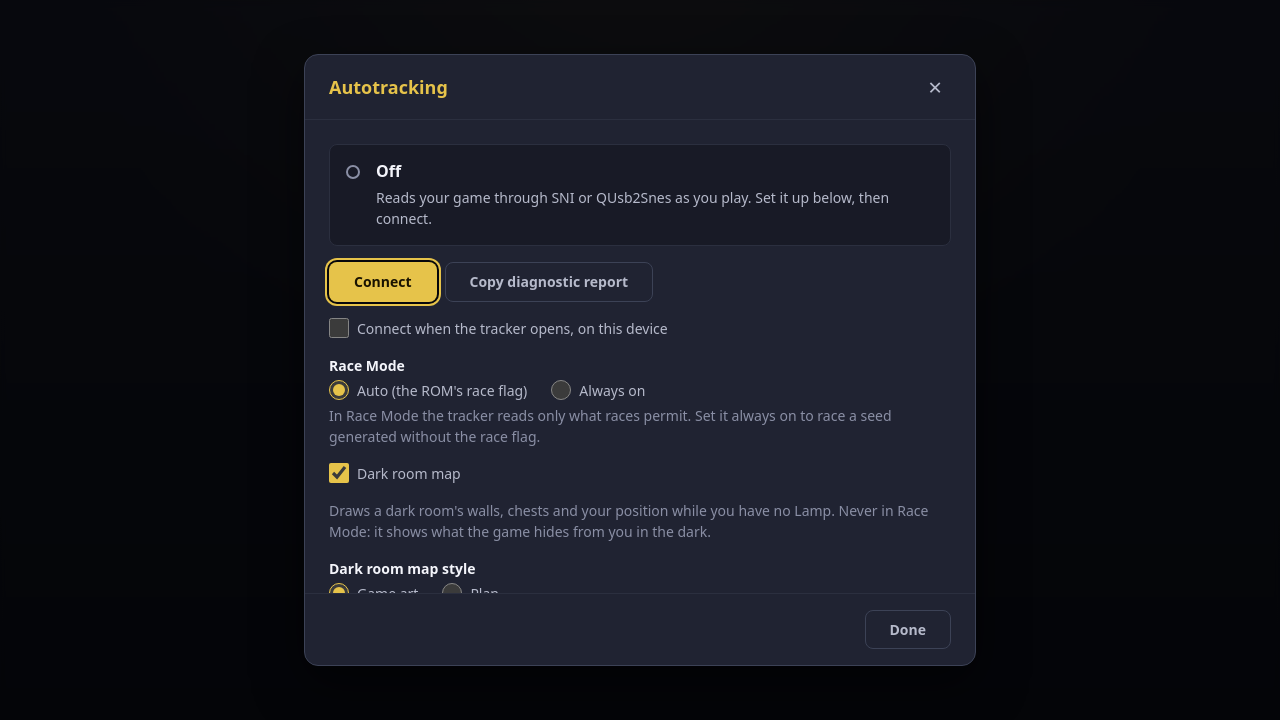
Test case: AutotrackDialog's actions › syncs the board to the game, and says what it changed
Click the button with test id "autotrack-connect": click(383, 282) [329,262,436,302]
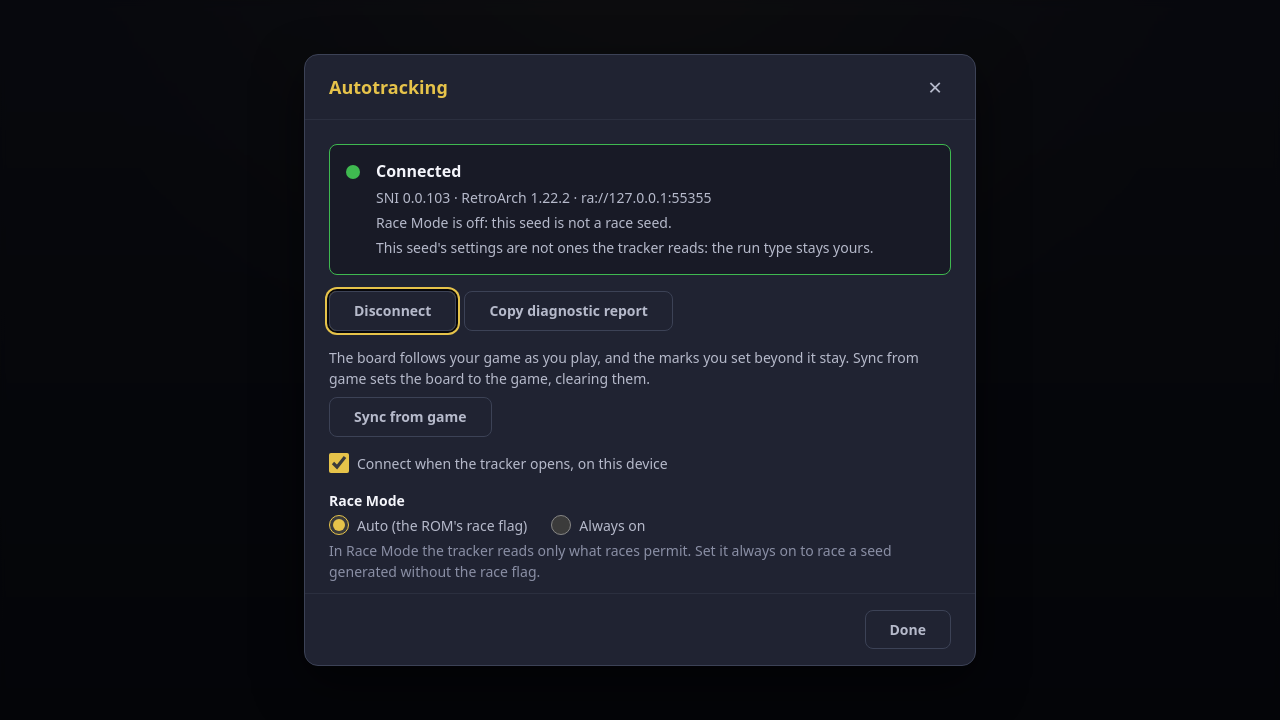
Click the button "Sync from game": click(410, 417) [329,397,492,437]
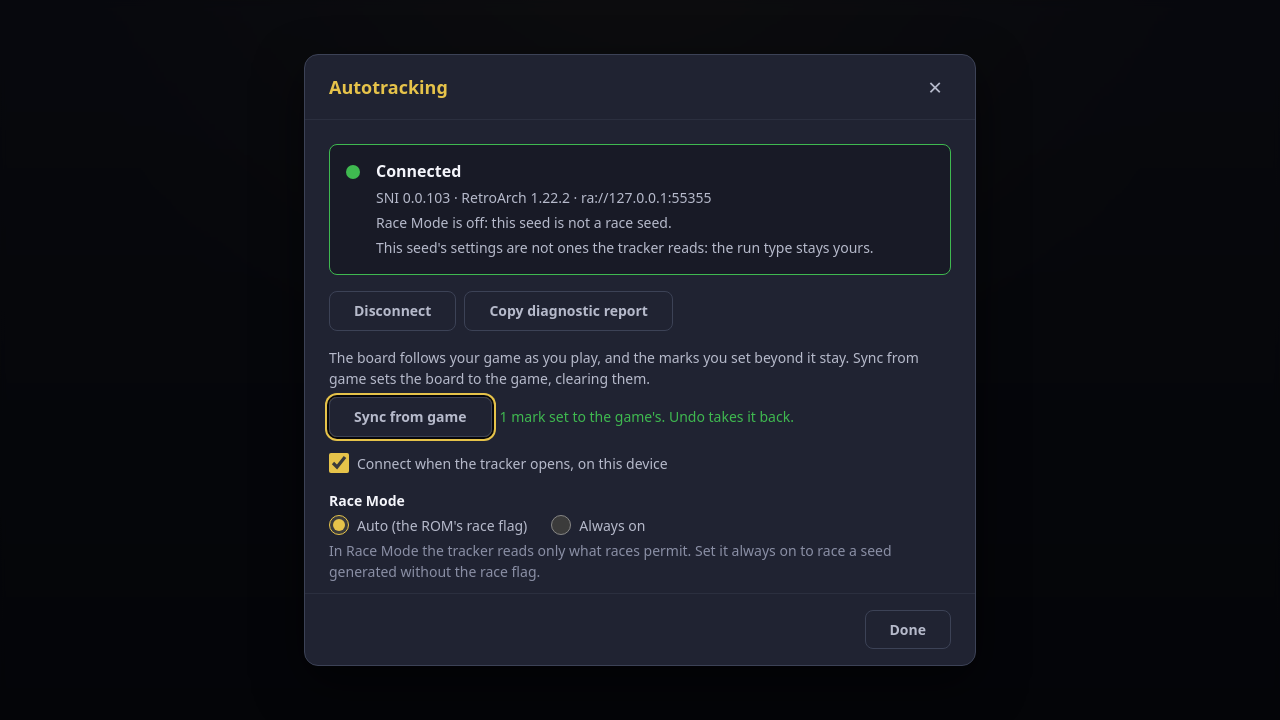
Expected: the text with test id "autotrack-sync-status" reads "1 mark set to the game's. Undo takes it back.", [500,407,794,426]
Click the button "Sync from game": click(410, 417) [329,397,492,437]
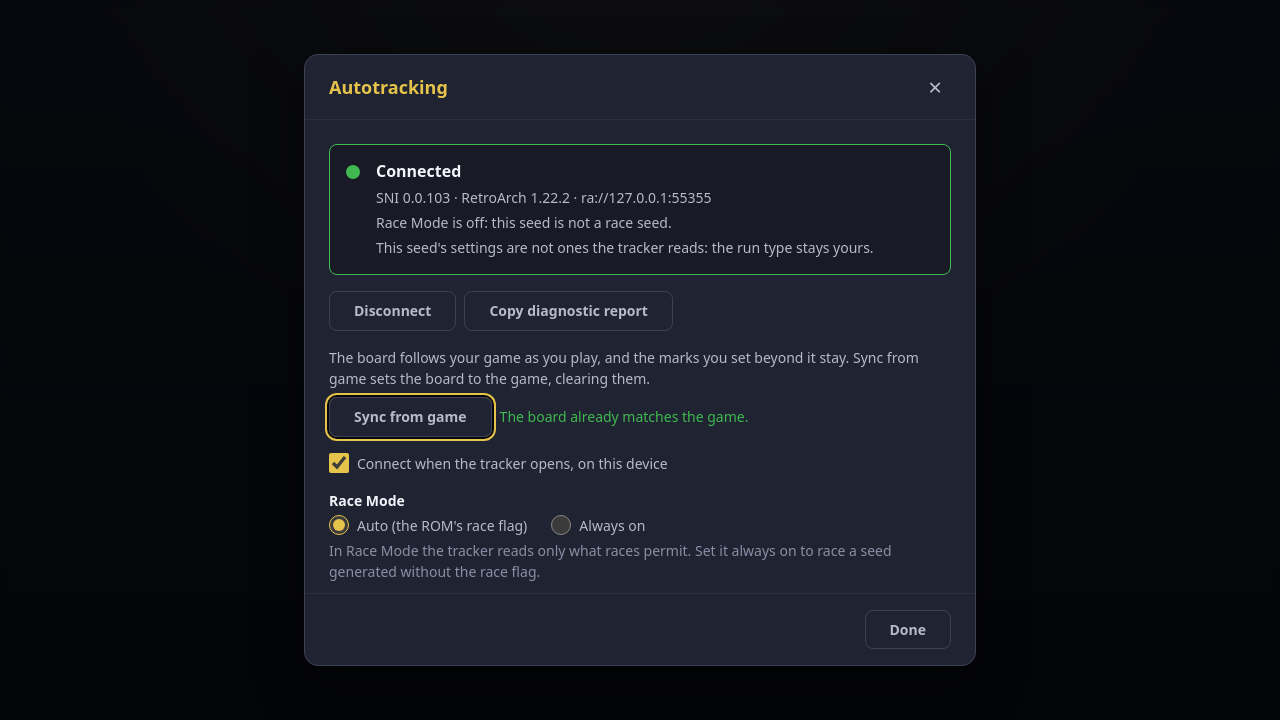
Expected: the text with test id "autotrack-sync-status" reads "The board already matches the game.", [500,407,748,426]
Click the button "Sync from game": click(410, 417) [329,397,492,437]
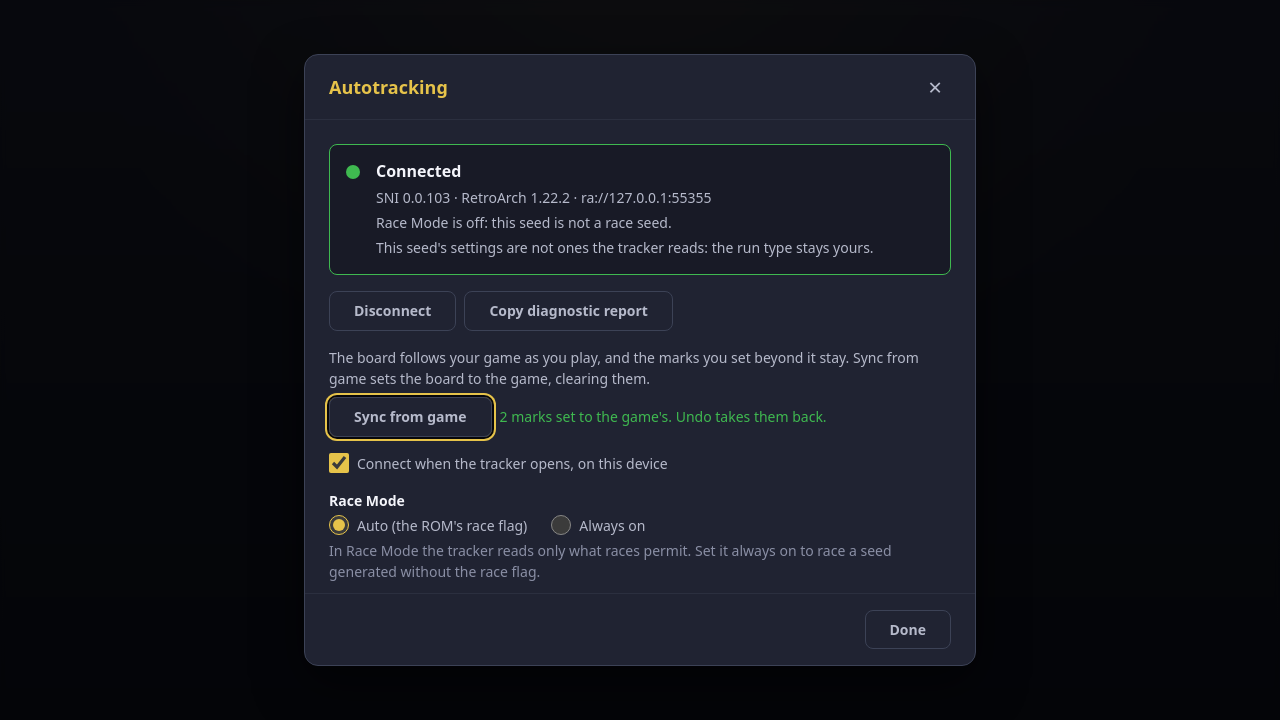
Expected: the text with test id "autotrack-sync-status" reads "2 marks set to the game's. Undo takes them back.", [500,407,827,426]
